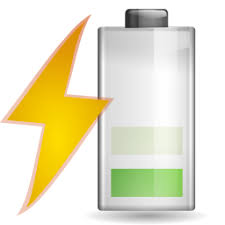charging sign: (95, 3, 199, 214)
